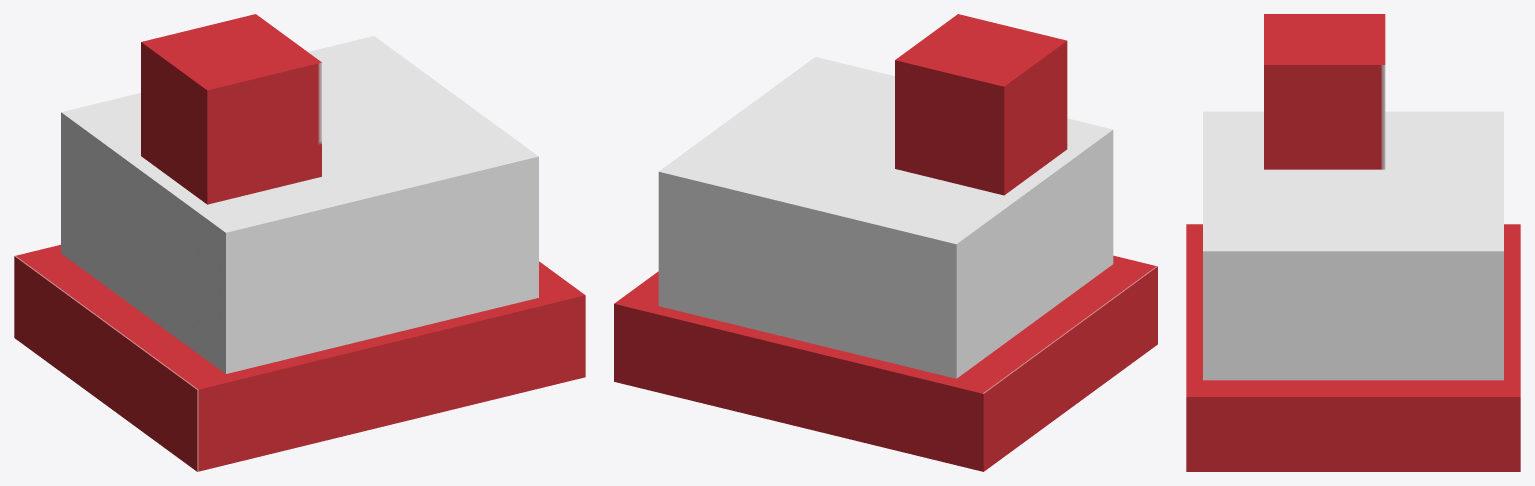
The model's file is waldohat.fbx.
3 views of the same model, side by side, from view 1: azimuth 30°, elevation 25°; view 2: azimuth 150°, elevation 25°; view 3: azimuth 270°, elevation 25° (orthographic). The views are drawn at different scales.
Parts seen in each view (by area): view 1: pCube12; view 2: pCube12; view 3: pCube12.
Part boxes in pixels (<box>): pCube12: <box>14,14,585,471</box>; pCube12: <box>614,14,1157,471</box>; pCube12: <box>1186,14,1520,471</box>.
Bounding box in the file's own units: 0.4892 × 0.4064 × 0.3993.
